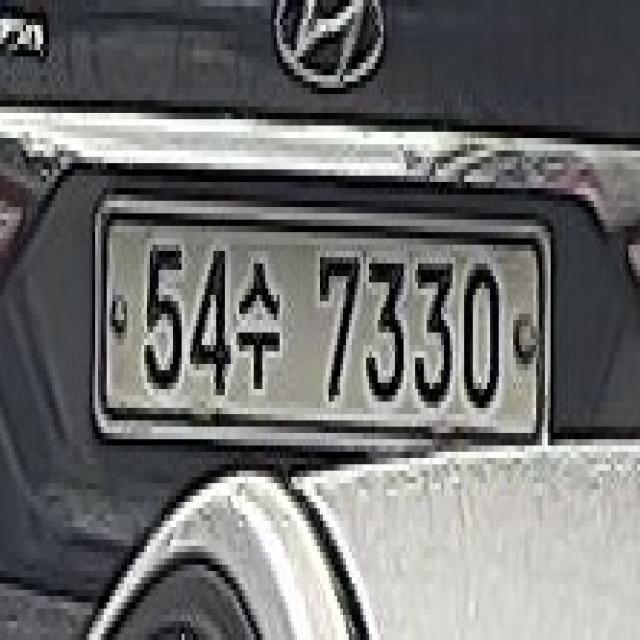0: (458, 232, 502, 420)
3: (406, 245, 458, 420), (363, 245, 412, 414)
4: (184, 226, 230, 395)
5: (138, 220, 184, 414)
7: (317, 245, 360, 414)
license_plate: (84, 194, 556, 470)
su: (228, 251, 285, 389)
